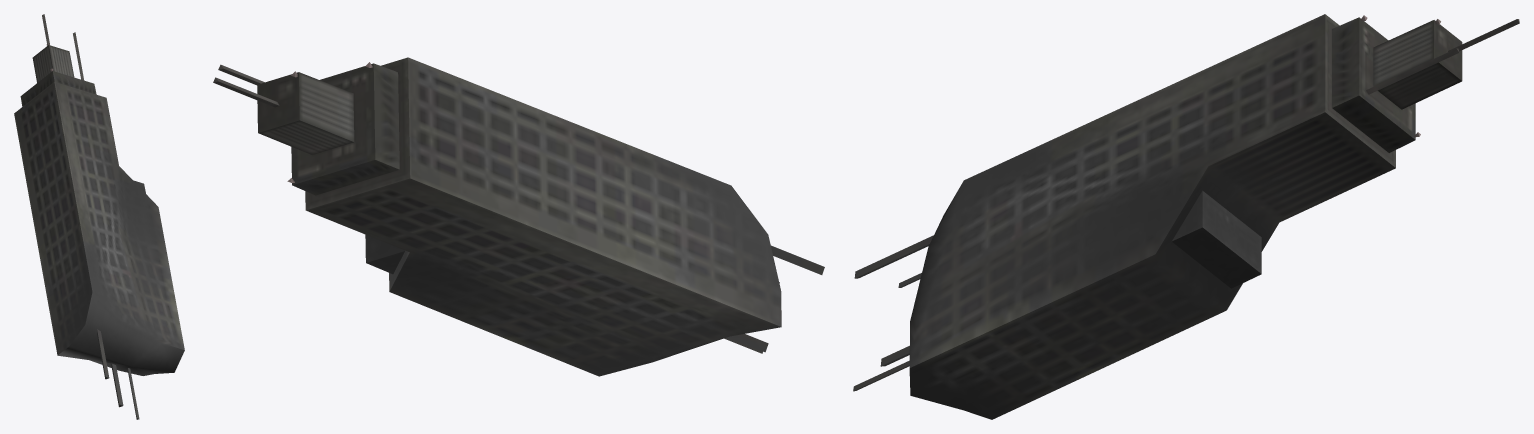
The model's file is skyBuildingAAB_pos_grp (11).fbx.
3 renders of one model, left to right at view 1: azimuth 30°, elevation 25°; view 2: azimuth 150°, elevation 25°; view 3: azimuth 270°, elevation 25°, orthographic. The views are drawn at different scales.
Visible parts, largest first — view 1: skyBuildingAAB_geo; view 2: skyBuildingAAB_geo; view 3: skyBuildingAAB_geo.
Part boxes in pixels (x1,y1,x2,y2): skyBuildingAAB_geo: (14, 14, 184, 419); skyBuildingAAB_geo: (213, 57, 824, 376); skyBuildingAAB_geo: (853, 14, 1519, 419).
Bounding box in the file's own units: 5.5 × 8.78 × 11.74.
